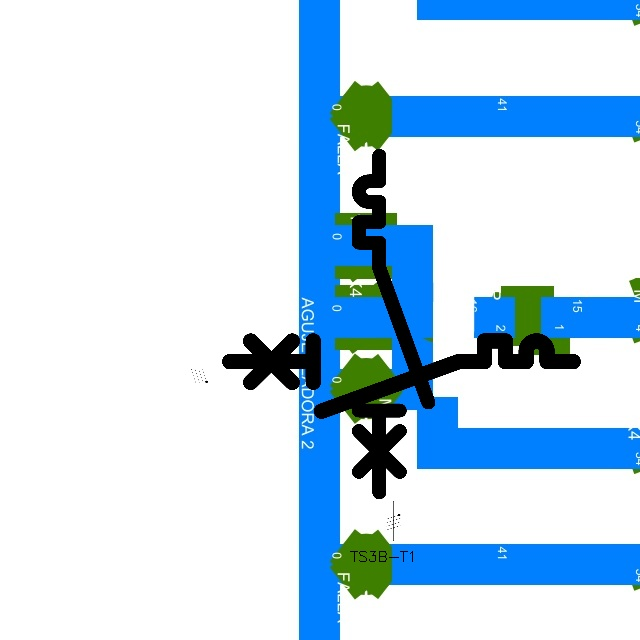interruptor_termomagnetico: (220, 332, 581, 420), (350, 147, 436, 501)
